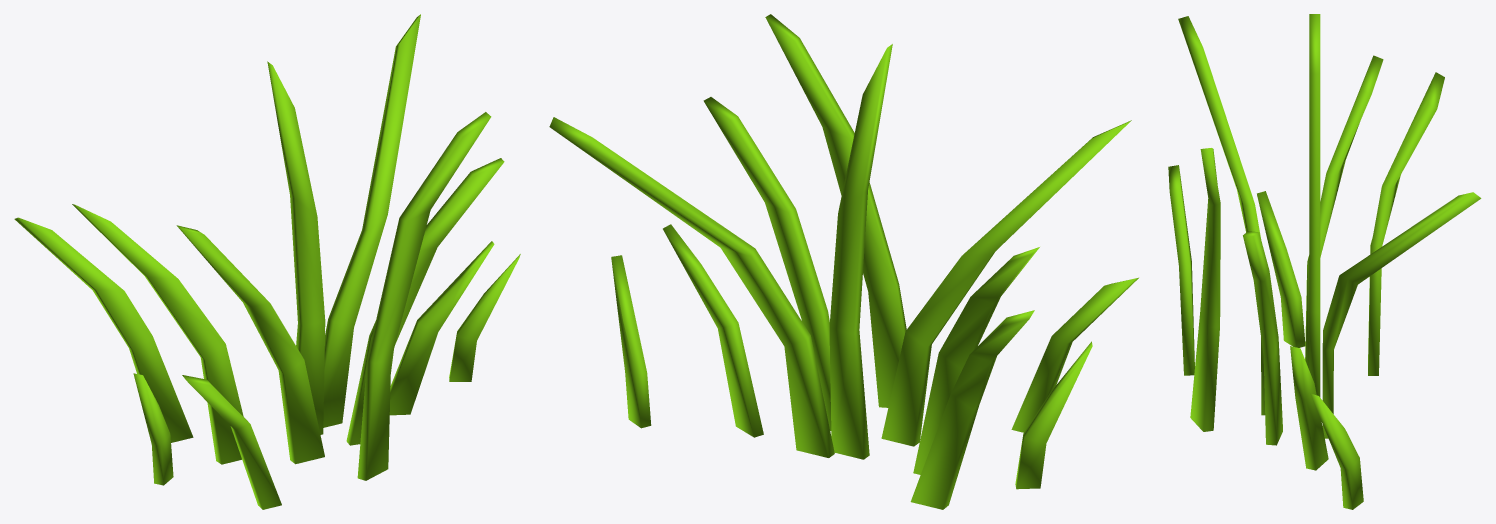
Rendered from Grass001.fbx.
3 views of the same model, side by side, from view 1: azimuth 30°, elevation 25°; view 2: azimuth 150°, elevation 25°; view 3: azimuth 270°, elevation 25° (orthographic). The views are drawn at different scales.
Visible parts, largest first — view 1: Grass_Small; view 2: Grass_Small; view 3: Grass_Small.
Part boxes in pixels (bbox=[...]): Grass_Small: bbox=[14, 14, 520, 509]; Grass_Small: bbox=[549, 14, 1138, 509]; Grass_Small: bbox=[1168, 14, 1481, 509].
Size of the model in its own units: 47.66 by 39.41 by 28.65.
1 material, 1 textured.
